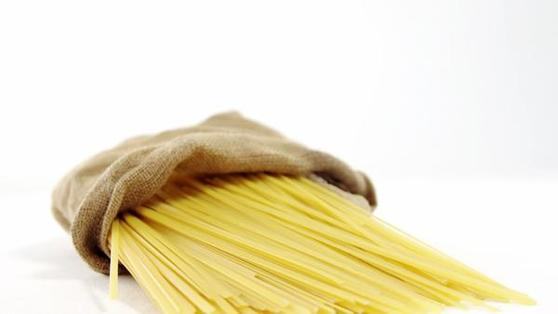spaghetti: (101, 165, 539, 312)
